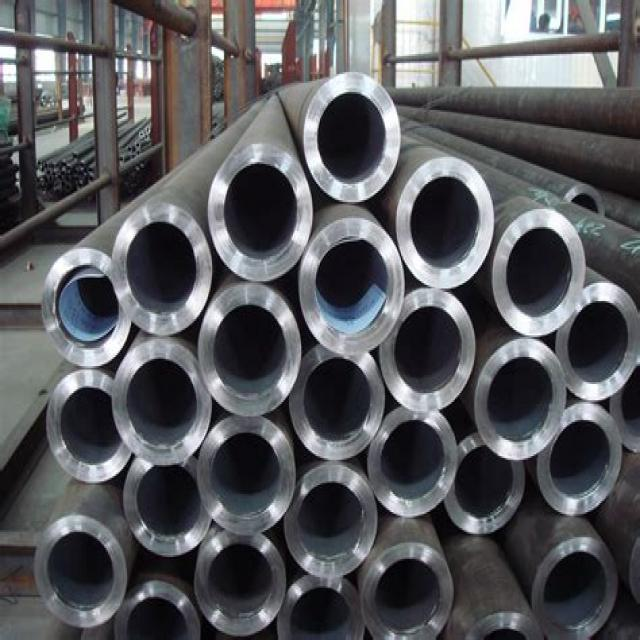pipe: (208, 138, 313, 282), (299, 215, 405, 354), (198, 276, 301, 416), (112, 202, 212, 336), (398, 156, 495, 288), (114, 334, 211, 466), (304, 72, 402, 202), (380, 288, 477, 412), (197, 416, 296, 536), (474, 336, 567, 461), (494, 213, 586, 337), (290, 346, 385, 461), (284, 463, 378, 579), (42, 247, 131, 368), (34, 516, 127, 628), (368, 408, 458, 518), (538, 403, 624, 516), (194, 533, 286, 638), (46, 370, 131, 483), (359, 545, 454, 640), (123, 459, 211, 558), (445, 434, 526, 536), (536, 532, 616, 634), (278, 577, 365, 640)
